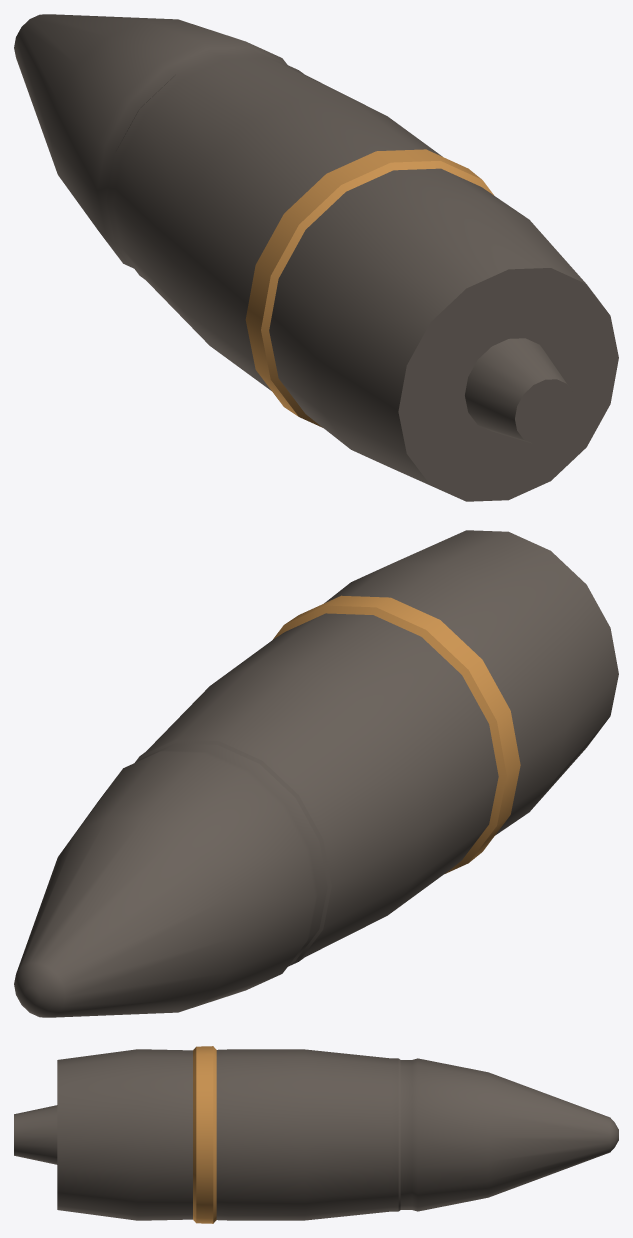
File: ap_bullet_76.fbx
The picture shows the model from 3 angles, top to bottom: view 1: azimuth 30°, elevation 25°; view 2: azimuth 150°, elevation 25°; view 3: azimuth 270°, elevation 25°; orthographic projection. The views are drawn at different scales.
Parts seen in each view (by area): view 1: Cylinder; view 2: Cylinder; view 3: Cylinder.
Boxes of the visible parts, x1,y1,x2,y2 form: Cylinder: [14, 14, 618, 501]; Cylinder: [14, 530, 618, 1017]; Cylinder: [14, 1046, 618, 1223].
Bounding box in the file's own units: 82.82 × 82.82 × 282.
